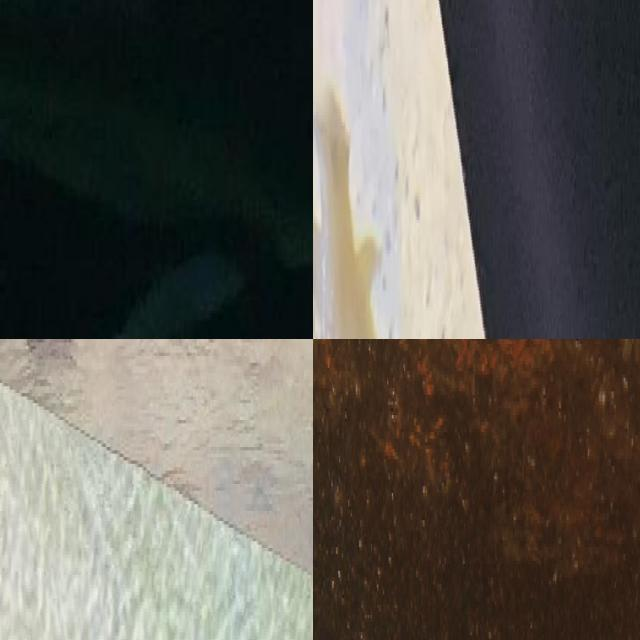fish: (0, 0, 313, 339), (313, 54, 386, 339)
